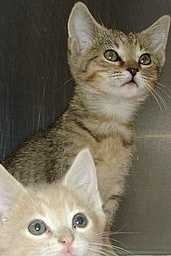Cat: (61, 2, 170, 222), (0, 149, 116, 255)
